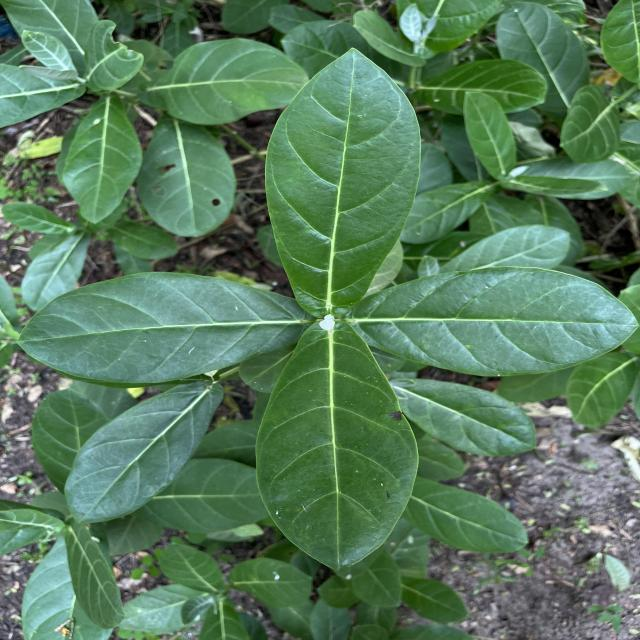Calotropis gigantea: (263, 46, 423, 318), (254, 320, 422, 574), (15, 270, 312, 384), (355, 265, 640, 378), (64, 380, 228, 526), (143, 36, 310, 126), (140, 112, 239, 238), (393, 376, 538, 458), (63, 94, 144, 225), (407, 474, 530, 556), (418, 58, 551, 117), (556, 82, 622, 165), (462, 91, 516, 180)
